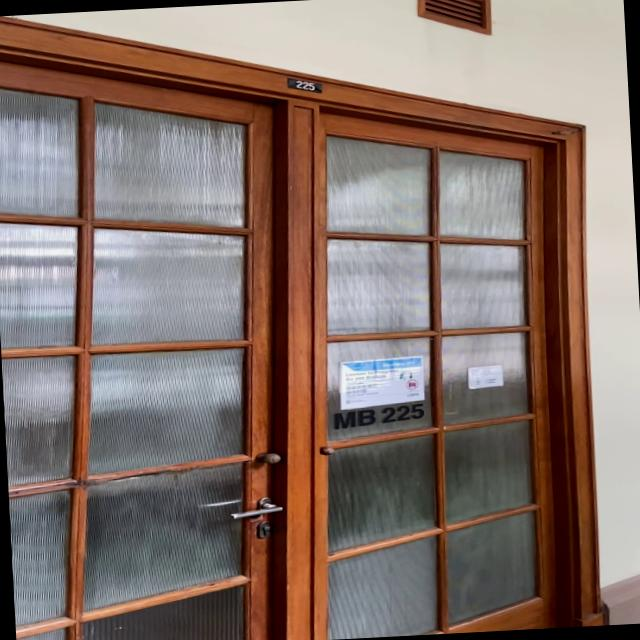room225: (282, 72, 322, 96)
room225Window: (330, 402, 426, 430)
